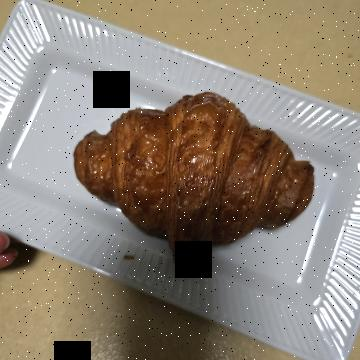croissant: (78, 36, 279, 292)
